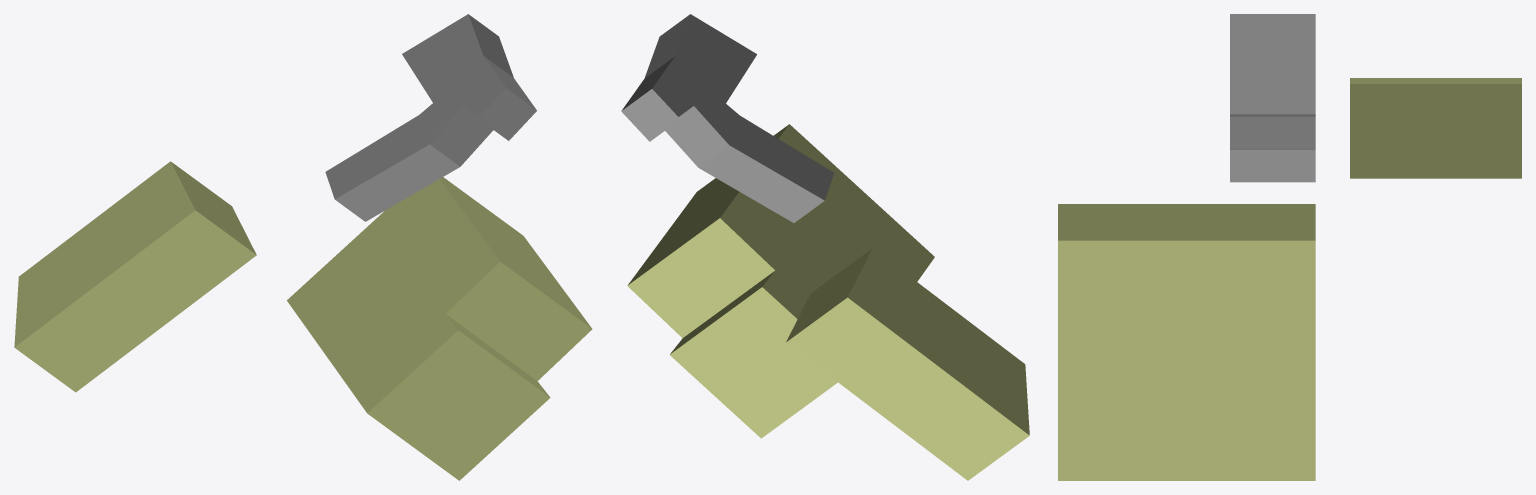
3 views of the same model, side by side, from view 1: azimuth 30°, elevation 25°; view 2: azimuth 150°, elevation 25°; view 3: azimuth 270°, elevation 25° (orthographic). The views are drawn at different scales.
Visible parts, largest first — view 1: 0_1_1_3_3_0_1_3_1_2; view 2: 0_1_1_3_3_0_1_3_1_2; view 3: 0_1_1_3_3_0_1_3_1_2.
Part boxes in pixels (<box>): 0_1_1_3_3_0_1_3_1_2: <box>14,14,592,480</box>; 0_1_1_3_3_0_1_3_1_2: <box>621,14,1029,480</box>; 0_1_1_3_3_0_1_3_1_2: <box>1058,14,1521,480</box>.
Size of the model in its own units: 23.59 by 20.2 by 16.2.
